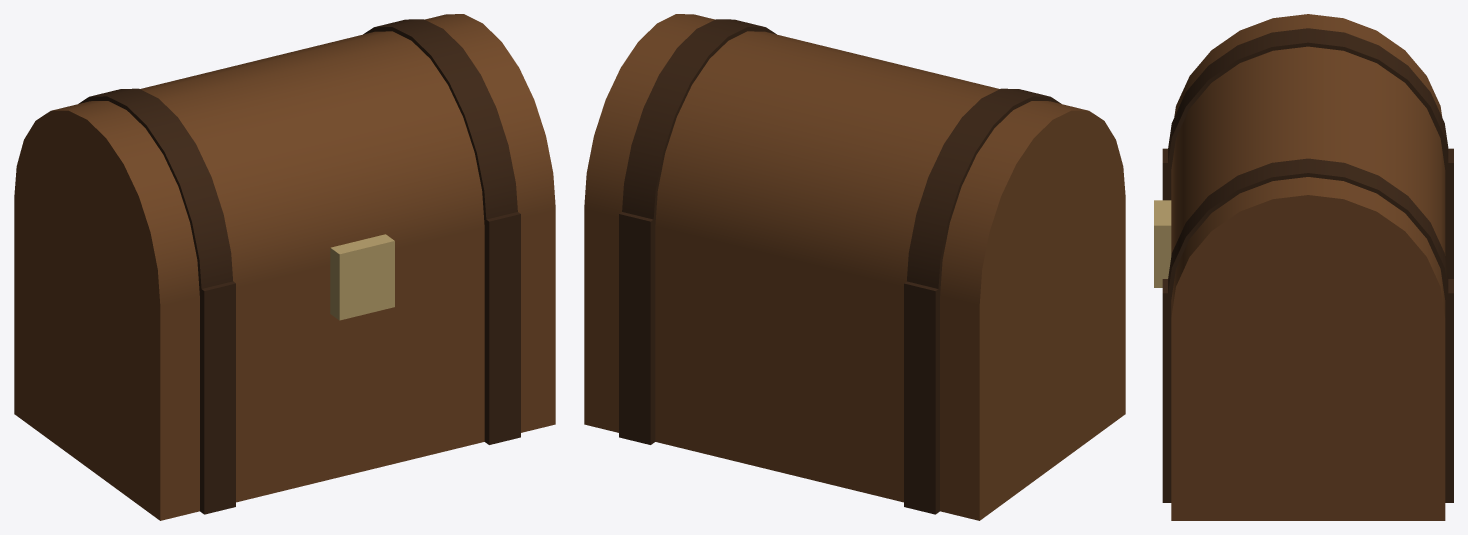
The model's file is chest01.glb.
3 views of the same model, side by side, from view 1: azimuth 30°, elevation 25°; view 2: azimuth 150°, elevation 25°; view 3: azimuth 270°, elevation 25° (orthographic). The views are drawn at different scales.
Parts seen in each view (by area): view 1: body; view 2: body; view 3: body.
Boxes of the visible parts, x1,y1,x2,y2 form: body: (14, 14, 555, 520); body: (584, 14, 1125, 520); body: (1154, 14, 1453, 520).
Size of the model in its own units: 0.5 by 0.425 by 0.35.
